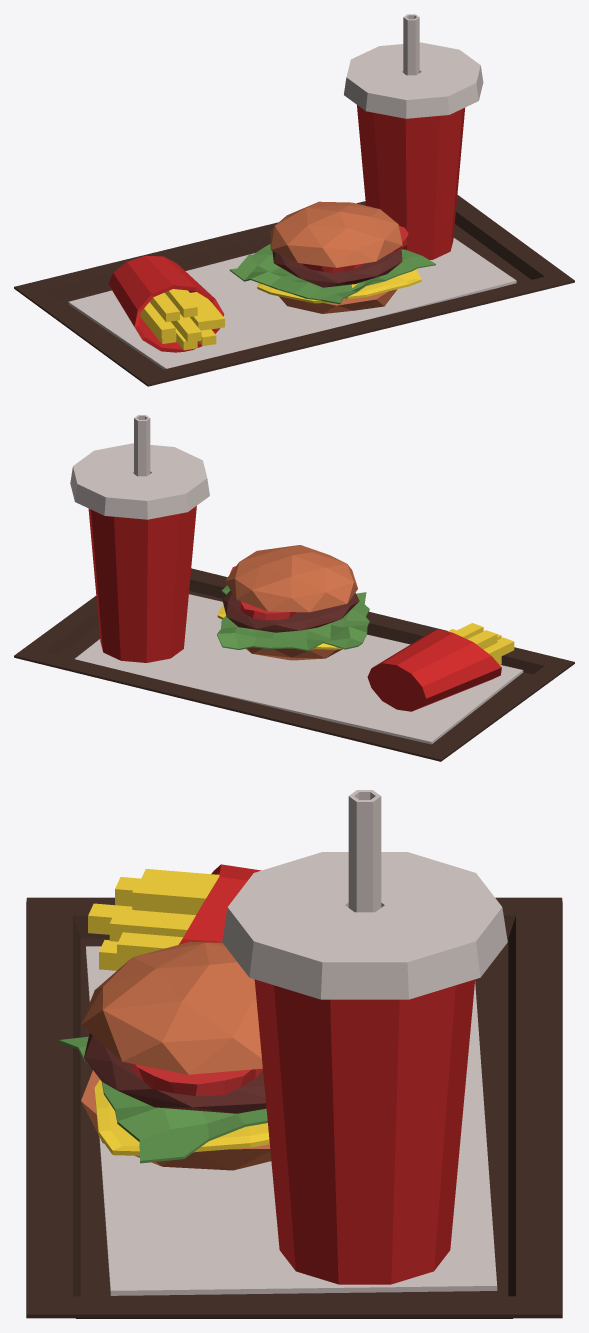
The model's file is Food tray.fbx.
3 views of the same model, one above another, from view 1: azimuth 30°, elevation 25°; view 2: azimuth 150°, elevation 25°; view 3: azimuth 270°, elevation 25° (orthographic). The views are drawn at different scales.
Parts seen in each view (by area): view 1: Food tray; view 2: Food tray; view 3: Food tray.
Part boxes in pixels (x1,y1,x2,y2): Food tray: (14,14,574,386); Food tray: (14,415,574,761); Food tray: (26,790,562,1318).
Size of the model in its own units: 72.57 by 37.6 by 39.43.
